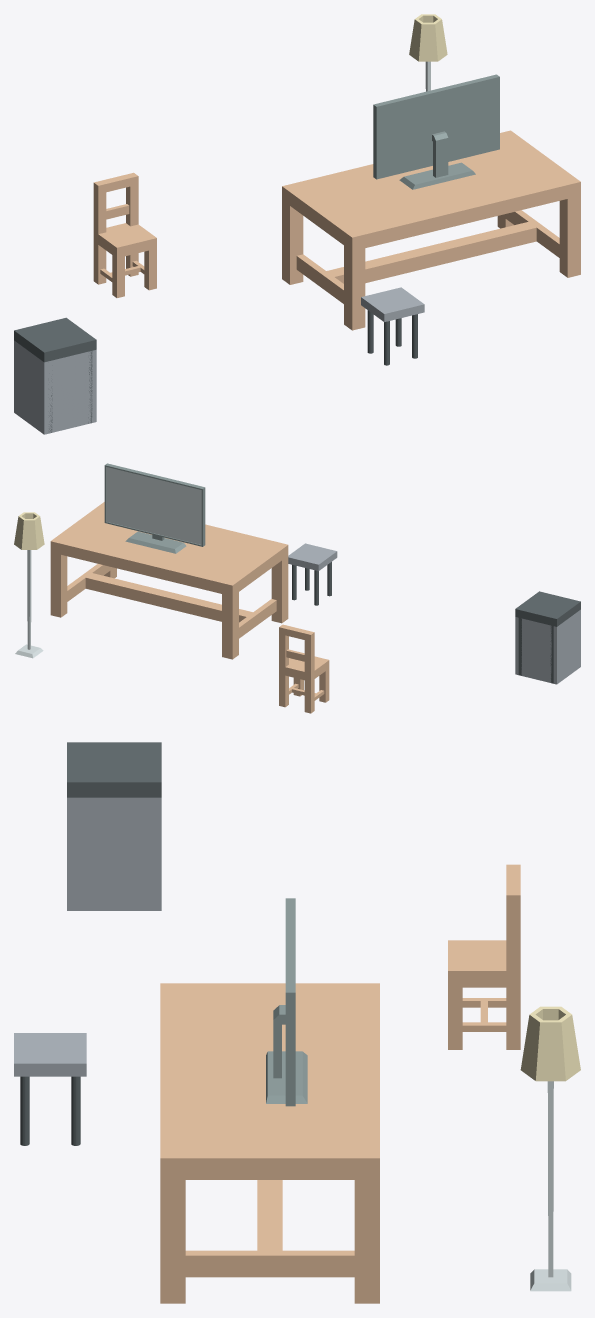
3 renders of one model, top to bottom at view 1: azimuth 30°, elevation 25°; view 2: azimuth 150°, elevation 25°; view 3: azimuth 270°, elevation 25°, orthographic. The views are drawn at different scales.
Visible parts, largest first — view 1: table_green__table(Clone), tv_black__televisionModern(Clone), bin_gray__bin_gray shell, chair_cyan__chair(Clone), bin_gray__bin_gray lid, lamp_white__lampRoundFloor(Clone), stool_purple__stool_purple seat; view 2: table_green__table(Clone), tv_black__televisionModern(Clone), bin_gray__bin_gray shell, chair_cyan__chair(Clone), lamp_white__lampRoundFloor(Clone), bin_gray__bin_gray lid, stool_purple__stool_purple seat; view 3: table_green__table(Clone), bin_gray__bin_gray shell, chair_cyan__chair(Clone), lamp_white__lampRoundFloor(Clone), bin_gray__bin_gray lid, tv_black__televisionModern(Clone), stool_purple__stool_purple seat.
Part boxes in pixels (x1,y1,x2,y2): table_green__table(Clone): (282, 130, 580, 330); tv_black__televisionModern(Clone): (373, 74, 499, 189); bin_gray__bin_gray shell: (14, 340, 96, 434); chair_cyan__chair(Clone): (93, 172, 156, 297); bin_gray__bin_gray lid: (14, 317, 96, 362); lamp_white__lampRoundFloor(Clone): (409, 14, 447, 91); stool_purple__stool_purple seat: (361, 287, 424, 322); table_green__table(Clone): (50, 502, 288, 659); tv_black__televisionModern(Clone): (104, 463, 205, 553); bin_gray__bin_gray shell: (515, 609, 580, 684); chair_cyan__chair(Clone): (279, 624, 329, 713); lamp_white__lampRoundFloor(Clone): (14, 512, 44, 658); bin_gray__bin_gray lid: (515, 591, 580, 626); stool_purple__stool_purple seat: (288, 543, 337, 571); table_green__table(Clone): (160, 983, 379, 1303); bin_gray__bin_gray shell: (67, 797, 161, 910); chair_cyan__chair(Clone): (448, 864, 520, 1049); lamp_white__lampRoundFloor(Clone): (520, 1006, 580, 1291); bin_gray__bin_gray lid: (67, 742, 161, 797); tv_black__televisionModern(Clone): (266, 898, 307, 1106); stool_purple__stool_purple seat: (14, 1033, 86, 1076).
Bounding box in the file's own units: 4.38 × 1.32 × 2.42.
